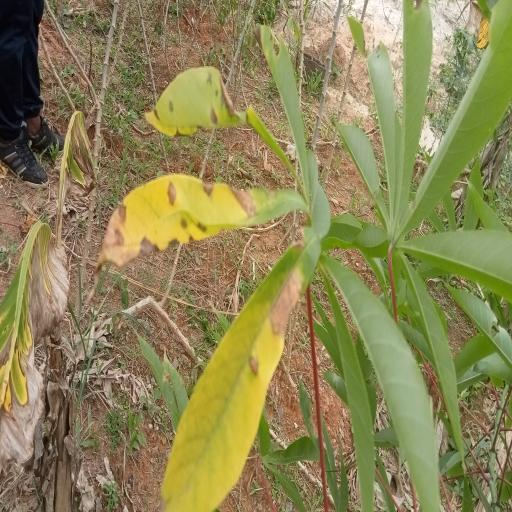Cassava_Root_Rot: (102, 20, 326, 507)
